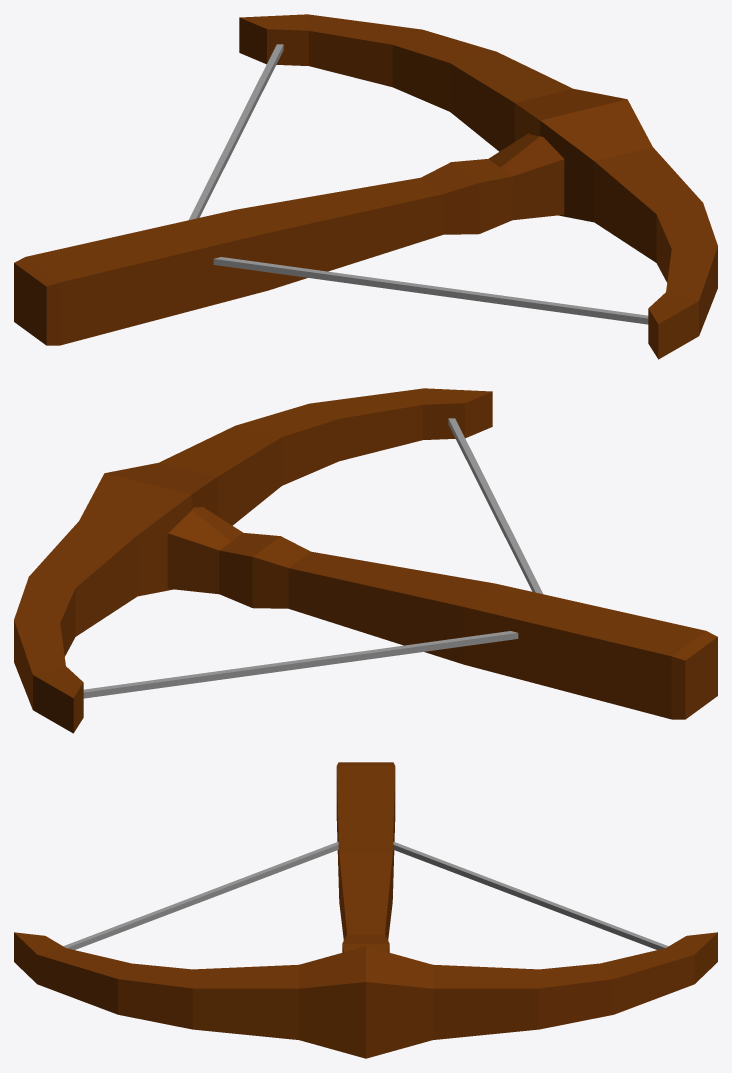
Rendered from Arbalete.fbx.
3 views of the same model, one above another, from view 1: azimuth 30°, elevation 25°; view 2: azimuth 150°, elevation 25°; view 3: azimuth 270°, elevation 25° (orthographic). The views are drawn at different scales.
Visible parts, largest first — view 1: Cube.001, Cube, Cube.002; view 2: Cube.001, Cube, Cube.002; view 3: Cube, Cube.001, Cube.002.
Part boxes in pixels (<box>): Cube.001: <box>14,133,564,345</box>; Cube: <box>239,14,717,359</box>; Cube.002: <box>189,44,648,324</box>; Cube.001: <box>167,507,717,719</box>; Cube: <box>14,388,492,733</box>; Cube.002: <box>83,418,542,698</box>; Cube: <box>14,932,717,1058</box>; Cube.001: <box>336,762,395,952</box>; Cube.002: <box>63,841,668,949</box>.
Size of the model in its own units: 397 by 58.12 by 483.
